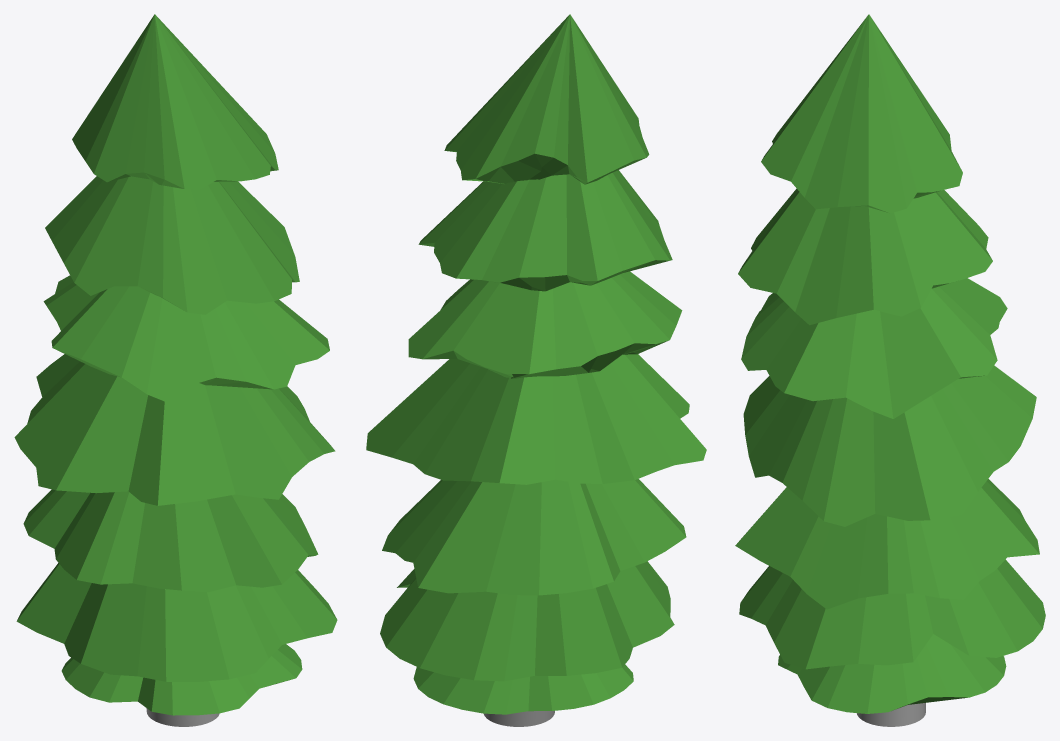
The model's file is tree_01.fbx.
3 renders of one model, left to right at view 1: azimuth 30°, elevation 25°; view 2: azimuth 150°, elevation 25°; view 3: azimuth 270°, elevation 25°, orthographic. The views are drawn at different scales.
Parts seen in each view (by area): view 1: tree_01; view 2: tree_01; view 3: tree_01.
Boxes of the visible parts, <box> form: tree_01: <box>14,14,337,726</box>; tree_01: <box>366,14,706,726</box>; tree_01: <box>735,14,1045,726</box>.
Size of the model in its own units: 346 by 787 by 326.
